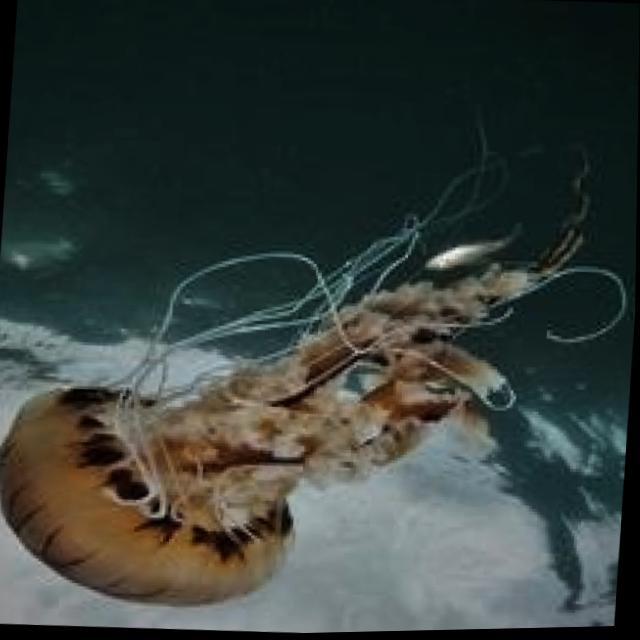Jellyfish: (0, 93, 639, 638)
